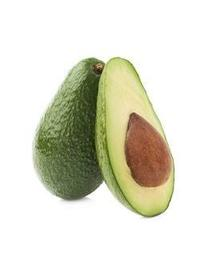avocado: (96, 57, 177, 218), (31, 57, 110, 201)
